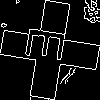E: (25, 25, 75, 65)
